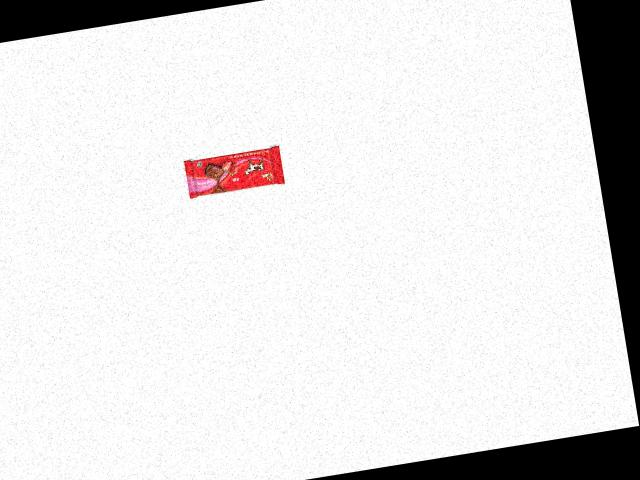chocolate: (182, 137, 292, 198)
